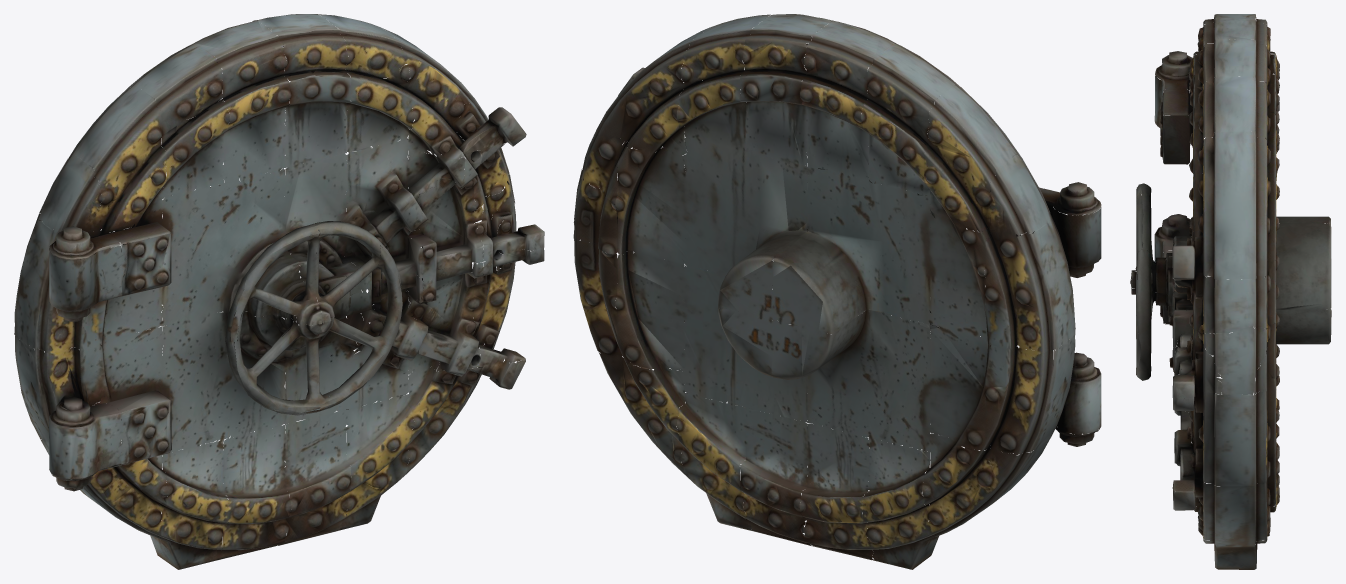
File: vault.glb
The picture shows the model from 3 angles, left to right: view 1: azimuth 30°, elevation 25°; view 2: azimuth 150°, elevation 25°; view 3: azimuth 270°, elevation 25°; orthographic projection. The views are drawn at different scales.
Visible parts, largest first — view 1: geometry_0; view 2: geometry_0; view 3: geometry_0.
Boxes of the visible parts, x1,y1,x2,y2 form: geometry_0: [14, 14, 544, 569]; geometry_0: [573, 14, 1101, 569]; geometry_0: [1130, 14, 1331, 569].
Bounding box in the file's own units: 4.8 × 4.78 × 1.79.
1 material, 1 textured.
